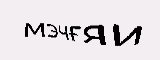А: (44, 17, 72, 43)
Ж: (90, 17, 113, 37)
О: (22, 18, 44, 39)
Щ: (108, 20, 132, 41)
Ю: (70, 15, 92, 40)
